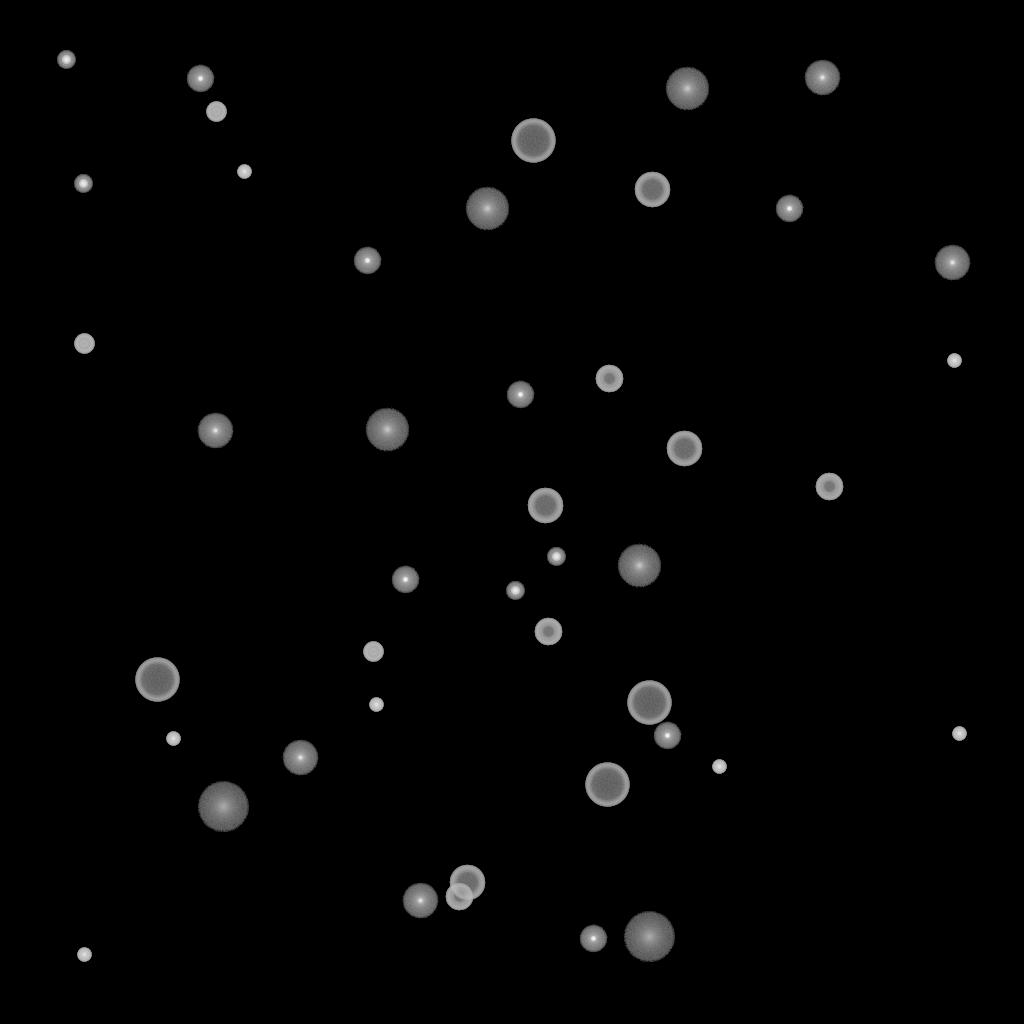depth:-10: (653, 722, 681, 750), (353, 247, 381, 275), (391, 566, 419, 594), (579, 925, 607, 953), (506, 381, 534, 409), (186, 65, 214, 93), (775, 195, 803, 223)
depth:-20: (547, 548, 565, 566), (74, 175, 92, 193), (506, 582, 524, 600), (57, 51, 75, 69)
depth:-30: (712, 760, 726, 774), (166, 732, 180, 746), (77, 948, 91, 962), (947, 354, 961, 368), (369, 698, 383, 712), (952, 727, 966, 741), (237, 165, 251, 179)
depth:-40: (206, 102, 226, 122), (74, 334, 94, 354), (363, 642, 383, 662)
depth:-50: (815, 473, 843, 501), (534, 618, 562, 646), (445, 883, 473, 911), (595, 365, 623, 393)
depth:-60: (527, 488, 563, 524), (666, 431, 702, 467), (449, 865, 485, 901), (634, 172, 670, 208)
depth:-70: (511, 119, 555, 163), (627, 681, 671, 725), (135, 658, 179, 702), (585, 763, 629, 807)
depth:0: (282, 740, 318, 776), (804, 60, 840, 96), (197, 413, 233, 449), (402, 883, 438, 919), (934, 245, 970, 281)
depth:10: (465, 187, 509, 231), (365, 408, 409, 452), (617, 544, 661, 588), (665, 67, 709, 111)
depth:20: (623, 912, 675, 962), (197, 782, 249, 832)
